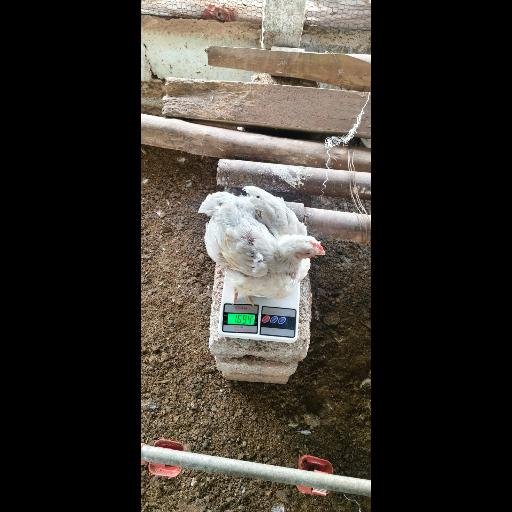chick: (198, 186, 325, 308)
